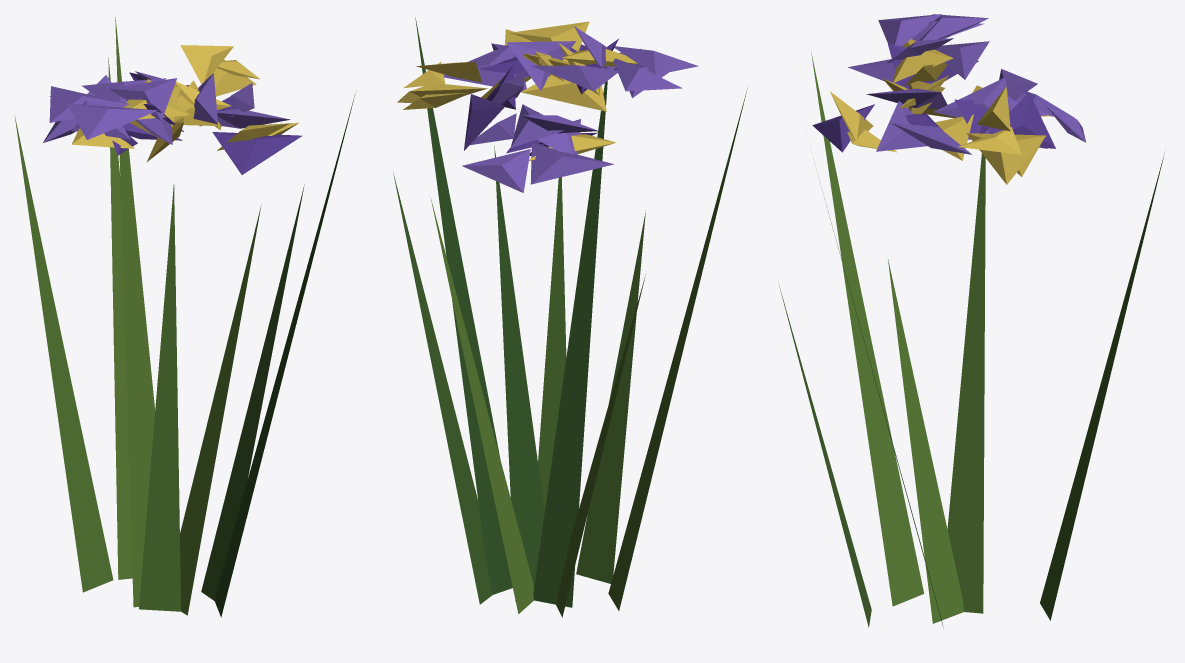
File: iris.glb
3 views of the same model, side by side, from view 1: azimuth 30°, elevation 25°; view 2: azimuth 150°, elevation 25°; view 3: azimuth 270°, elevation 25° (orthographic). The views are drawn at different scales.
Visible parts, largest first — view 1: iris; view 2: iris; view 3: iris.
Part boxes in pixels (<box>): iris: <box>14,17,355,617</box>; iris: <box>393,17,747,617</box>; iris: <box>779,14,1164,627</box>.
Bounding box in the file's own units: 0.5489 × 1 × 0.6255.
